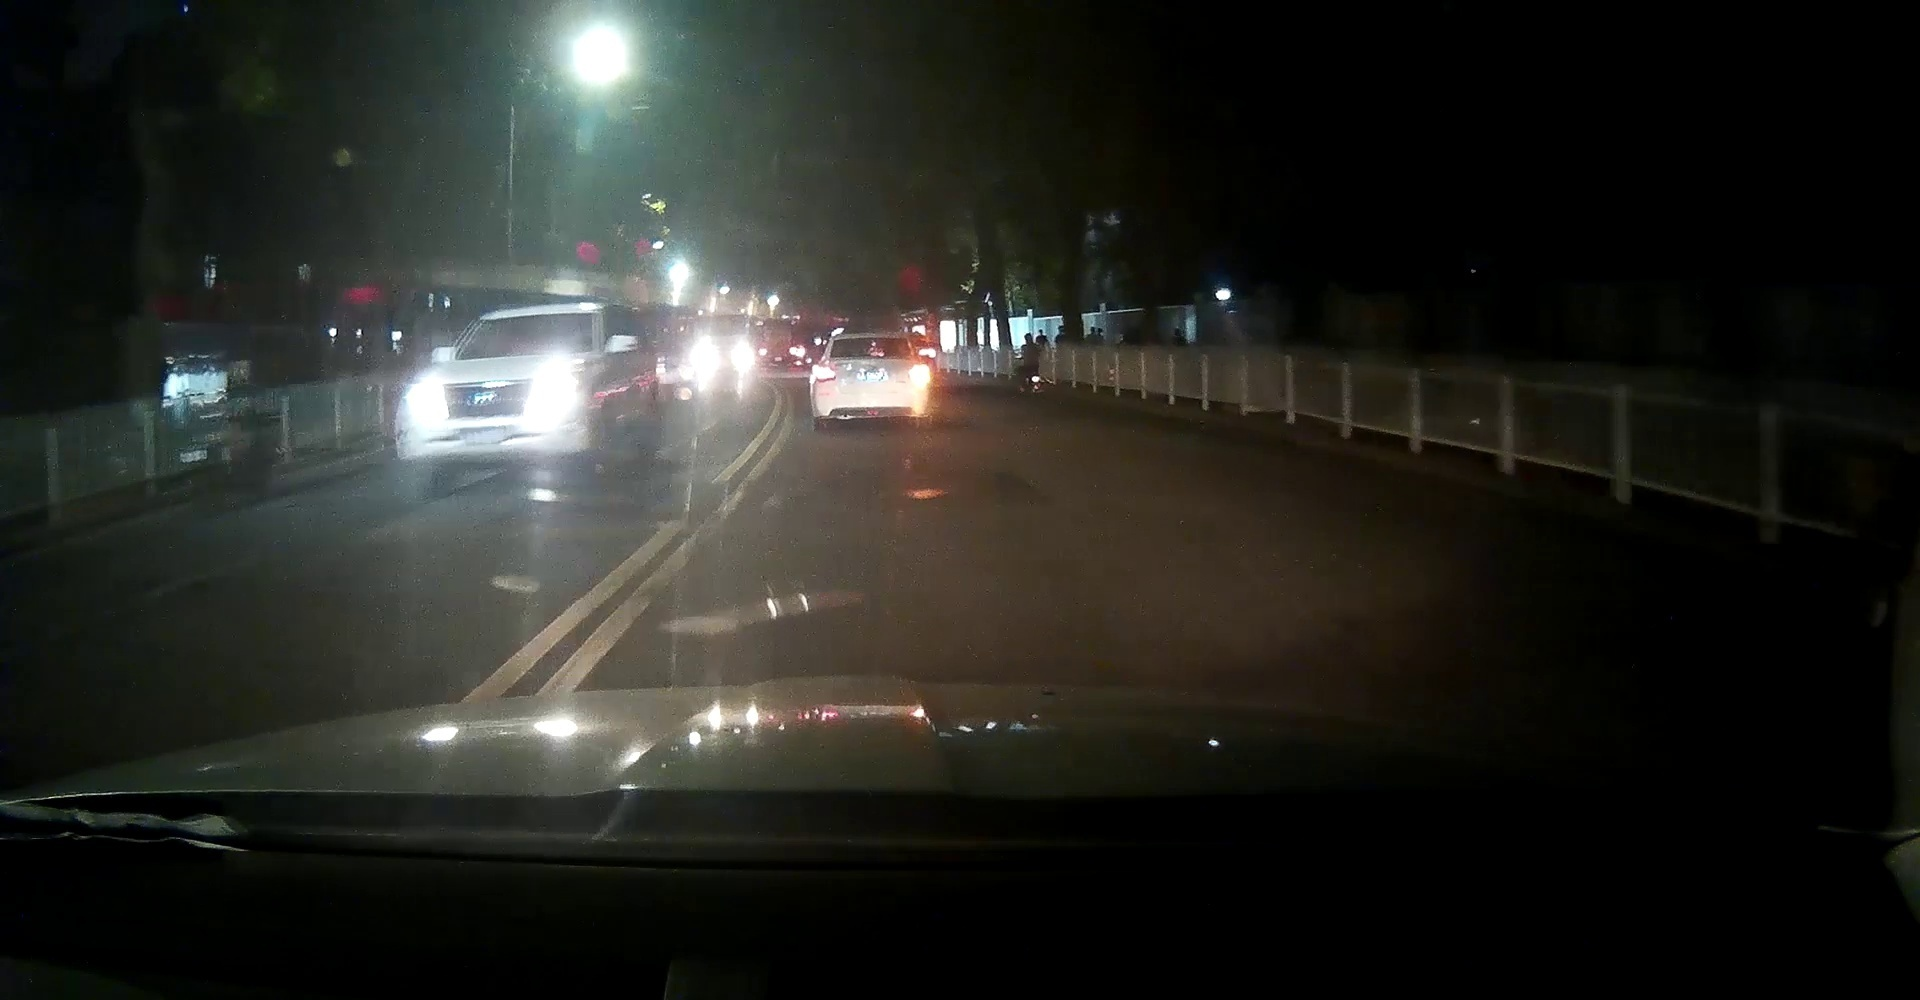L_light: (814, 367, 836, 381)
R_light: (908, 365, 926, 379)
T_light: (863, 338, 877, 341)
night-no: (810, 334, 928, 431)
